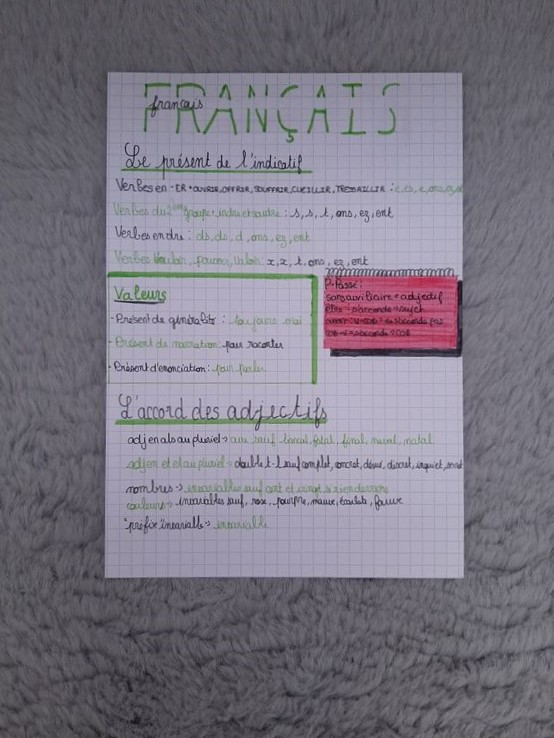page: (108, 71, 461, 578)
